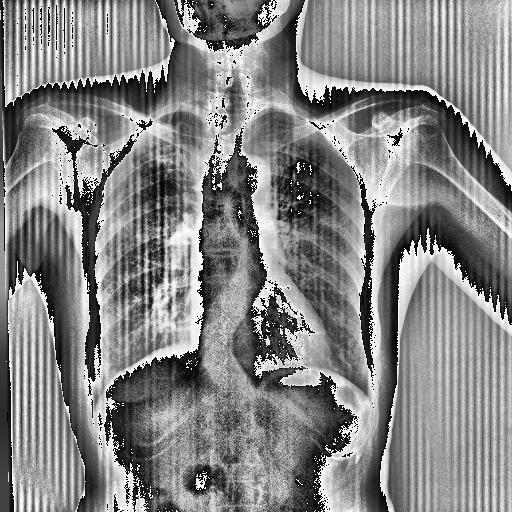0- Aortic enlargement: (209, 148, 285, 226)
13- Pulmonary fibrosis: (148, 139, 193, 192)
2- Calcification: (142, 146, 204, 184), (122, 158, 138, 172)
7- Lung Opacity: (127, 116, 196, 170), (148, 139, 193, 192)
9- Other lesion: (148, 139, 193, 192), (142, 146, 204, 184)
